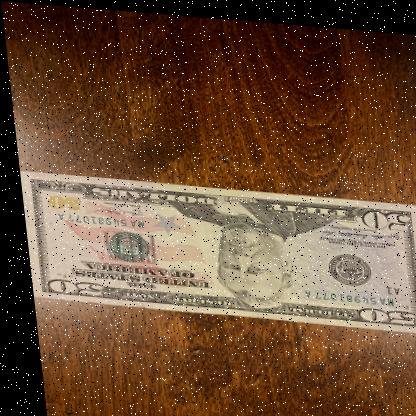fifty-front: (15, 169, 416, 326)
